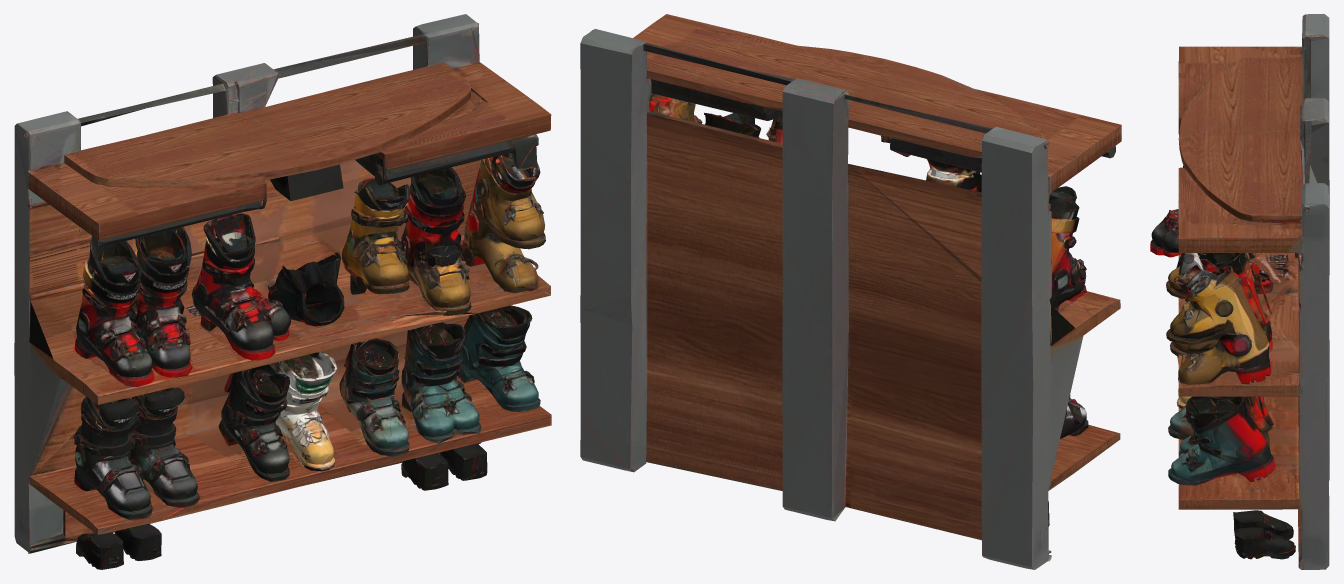
The model's file is boot_rack.glb.
3 renders of one model, left to right at view 1: azimuth 30°, elevation 25°; view 2: azimuth 150°, elevation 25°; view 3: azimuth 270°, elevation 25°, orthographic. The views are drawn at different scales.
Bounding box in the file's own units: 1.9 × 1.69 × 0.7486.
Materials: 1 (1 with a texture image).
